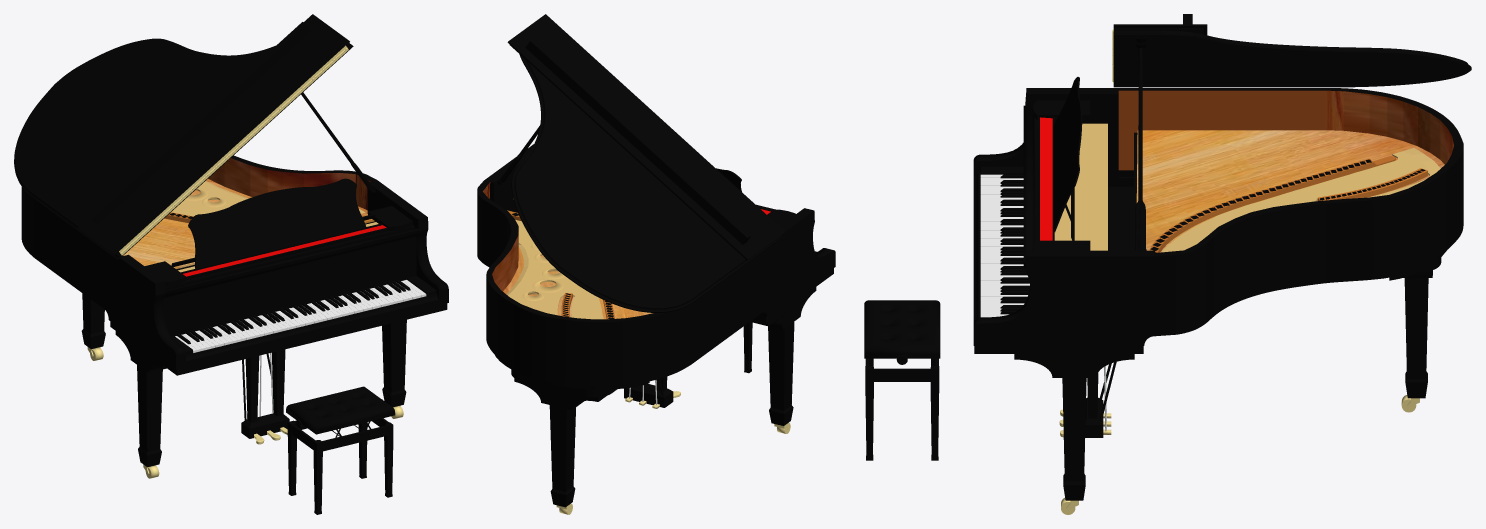
Rendered from piaano.glb.
The picture shows the model from 3 angles, left to right: view 1: azimuth 30°, elevation 25°; view 2: azimuth 150°, elevation 25°; view 3: azimuth 270°, elevation 25°; orthographic projection. The views are drawn at different scales.
Parts seen in each view (by area): view 1: 本体, 蓋1, 蓋2, 鍵盤の蓋, 譜面台, 椅子, 譜面台の台, ペダルの, 棒; view 2: 本体, 蓋1, 蓋2, ペダルの, 椅子; view 3: 本体, 蓋1, 椅子, 譜面台の台, 譜面台, 鍵盤の蓋, ペダルの, 棒, 蓋2.
Boxes of the visible parts, x1,y1,x2,y2 form: 本体: [21, 155, 448, 478]; 蓋1: [14, 38, 353, 259]; 蓋2: [77, 14, 349, 255]; 鍵盤の蓋: [163, 228, 418, 336]; 譜面台: [188, 178, 366, 268]; 椅子: [286, 386, 394, 514]; 譜面台の台: [144, 206, 412, 286]; ペダルの: [241, 349, 289, 438]; 棒: [301, 92, 373, 190]; 本体: [477, 144, 835, 514]; 蓋1: [511, 54, 782, 312]; 蓋2: [507, 14, 785, 260]; ペダルの: [624, 376, 673, 407]; 椅子: [743, 322, 752, 373]; 本体: [973, 88, 1463, 514]; 蓋1: [1112, 30, 1471, 87]; 椅子: [864, 300, 940, 460]; 譜面台の台: [1033, 100, 1090, 250]; 譜面台: [1053, 77, 1082, 232]; 鍵盤の蓋: [1023, 105, 1034, 268]; ペダルの: [1085, 362, 1116, 437]; 棒: [1135, 48, 1145, 250]; 蓋2: [1112, 14, 1207, 81].
Bounding box in the file's own units: 15.4 × 19.56 × 22.88.
Materials: 10 (2 with a texture image).
